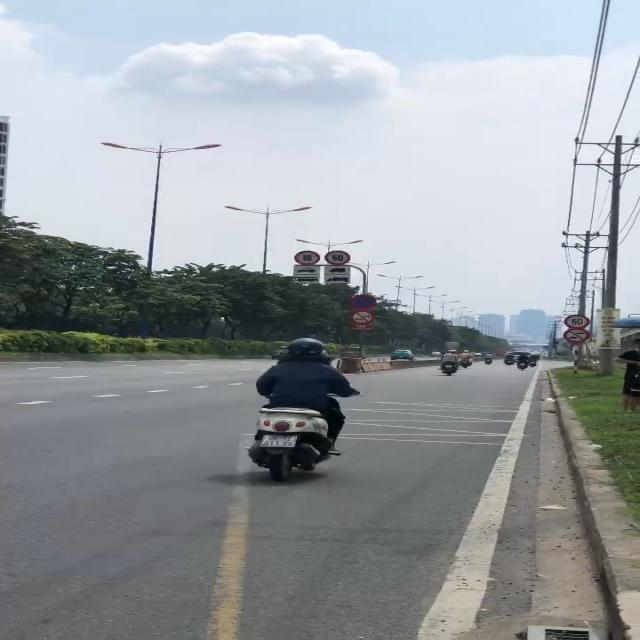Bien bao toc do toi da cho phep: (322, 249, 354, 265), (562, 312, 593, 328)
